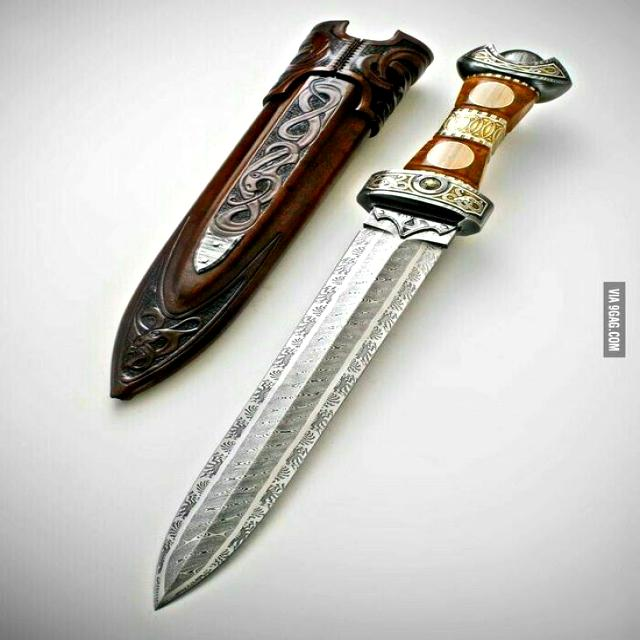short sword: (146, 48, 584, 611)
